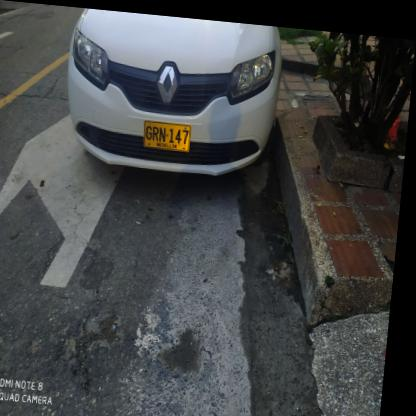placa: (142, 114, 196, 151)
